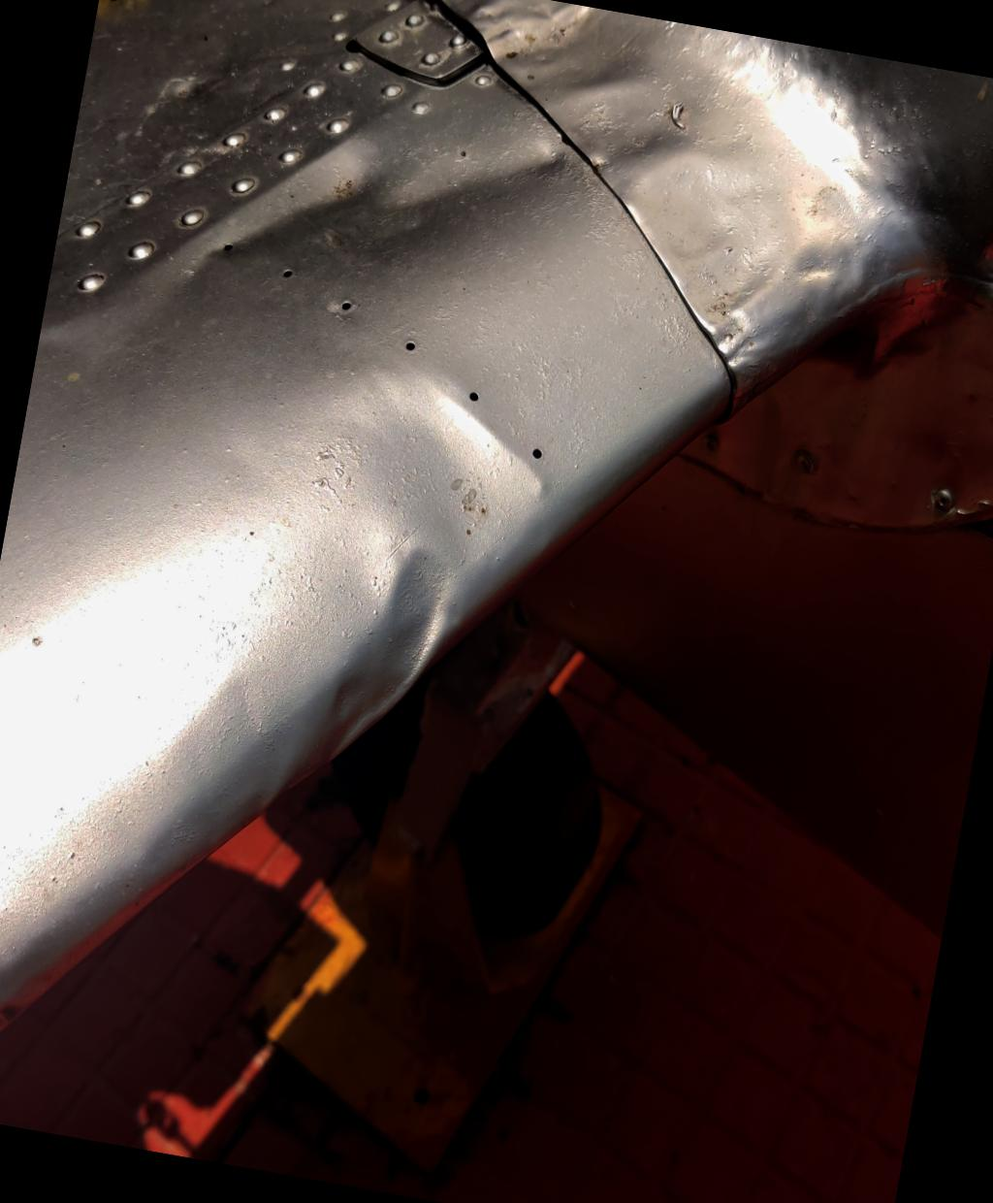dent: (180, 59, 589, 355), (280, 499, 483, 802)
